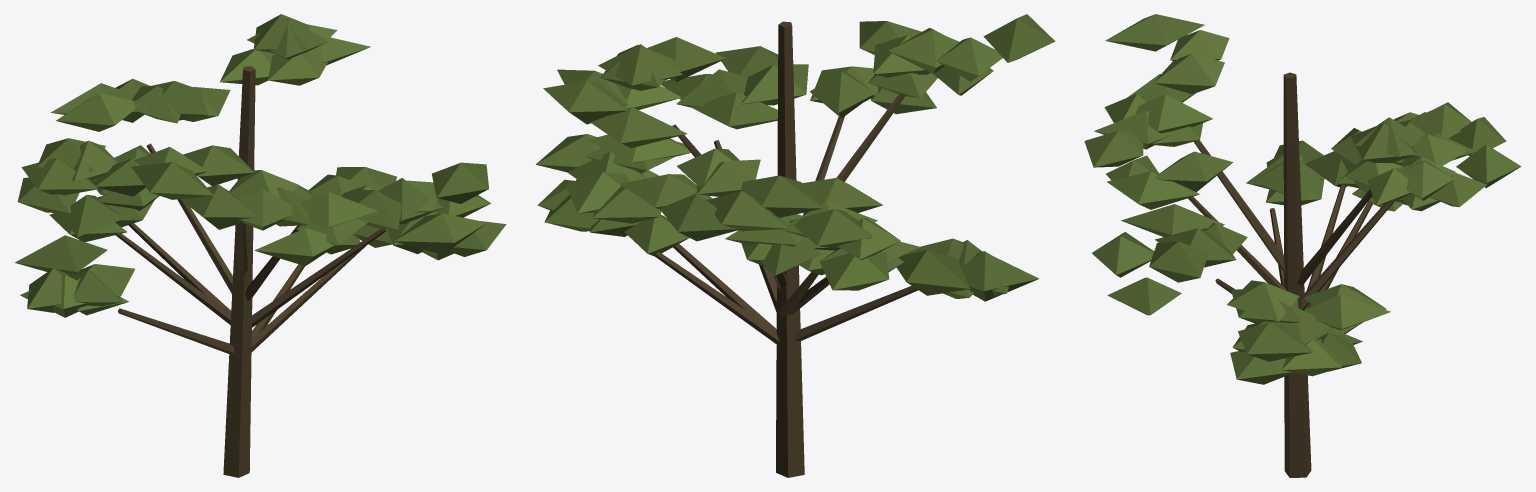
The model's file is tree-0.glb.
3 renders of one model, left to right at view 1: azimuth 30°, elevation 25°; view 2: azimuth 150°, elevation 25°; view 3: azimuth 270°, elevation 25°, orthographic. The views are drawn at different scales.
Parts seen in each view (by area): view 1: Branched crown; view 2: Branched crown; view 3: Branched crown.
Part boxes in pixels (x1=…): Branched crown: x1=15, y1=14, x2=506, y2=477; Branched crown: x1=536, y1=14, x2=1055, y2=477; Branched crown: x1=1084, y1=14, x2=1521, y2=477.
Bounding box in the file's own units: 1.28 × 1.1 × 1.09.
